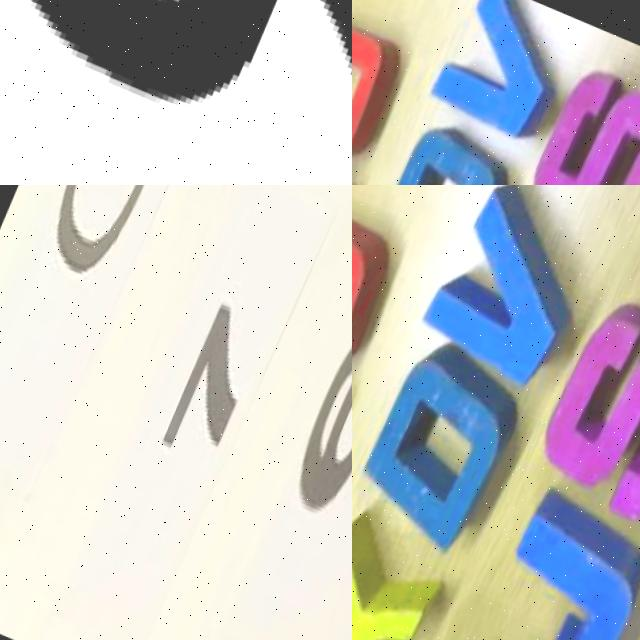0: (23, 185, 206, 306)
6: (279, 278, 352, 535)
7: (143, 264, 293, 504)
9: (0, 0, 352, 185)
D: (352, 309, 557, 552), (357, 102, 537, 185)
J: (470, 460, 640, 640)
O: (352, 185, 424, 392), (352, 1, 419, 167)
S: (525, 269, 640, 532), (518, 30, 640, 185)
V: (405, 185, 624, 409), (416, 0, 589, 151)
X: (352, 500, 482, 640)
